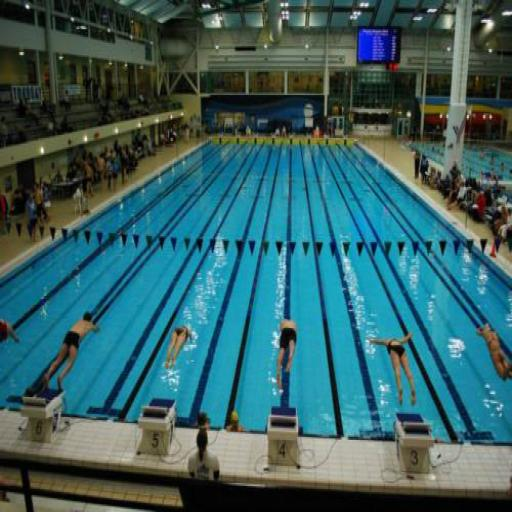swimming: (22, 308, 102, 402), (364, 326, 419, 410), (473, 319, 511, 385), (272, 314, 299, 399), (160, 322, 194, 374), (0, 314, 22, 351)
